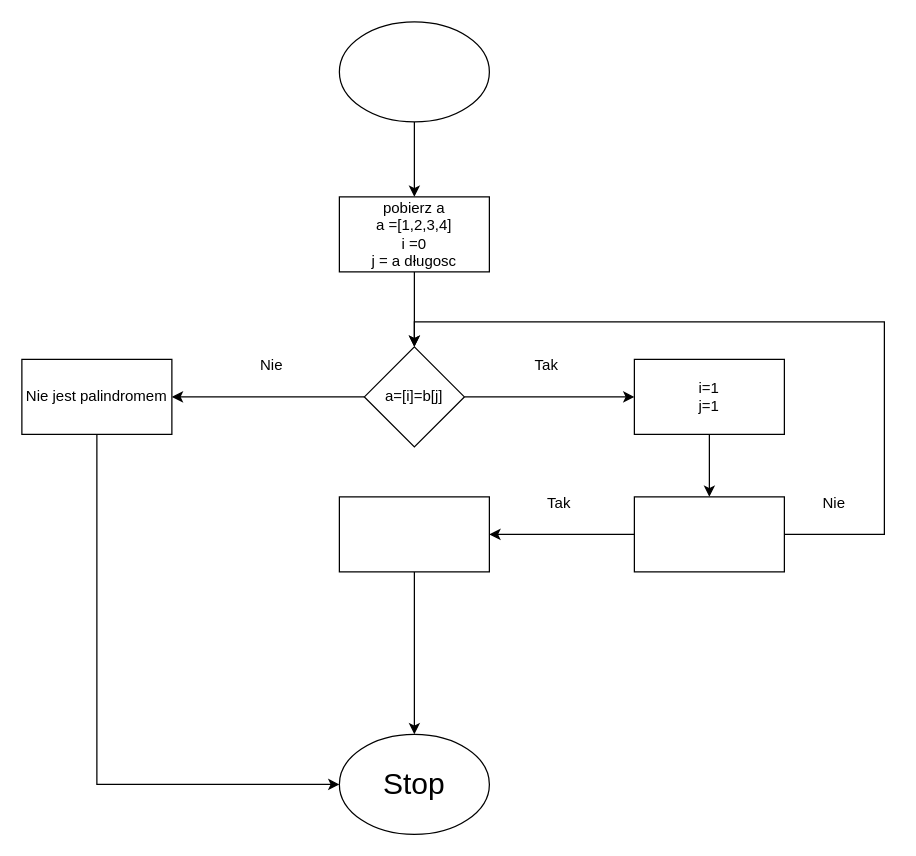
This 916x856 diagram has some shape labels left out. Here are the shapes that lost their labels. From the top down, the box of each, then its label:
(338, 21, 489, 122): start
(338, 496, 489, 572): słowo jest palindromem
(633, 496, 784, 572): K = j
